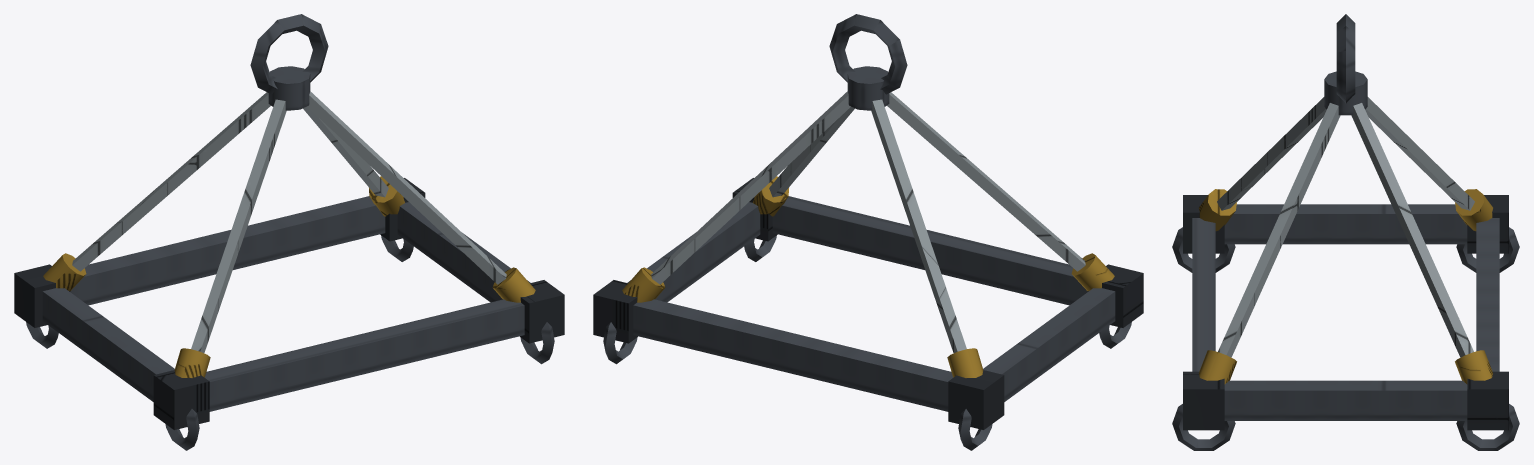
The model's file is cargo-four-point-sling-frame_lod2.glb.
3 views of the same model, side by side, from view 1: azimuth 30°, elevation 25°; view 2: azimuth 150°, elevation 25°; view 3: azimuth 270°, elevation 25° (orthographic).
Parts seen in each view (by area): view 1: LOD2_Mechanical, LOD2_BrushedMetal, LOD2_Armor, LOD2_Livery; view 2: LOD2_Mechanical, LOD2_BrushedMetal, LOD2_Armor, LOD2_Livery; view 3: LOD2_Mechanical, LOD2_BrushedMetal, LOD2_Armor, LOD2_Livery.
Part boxes in pixels (x1,y1,x2,y2): LOD2_Mechanical: (26, 14, 554, 450); LOD2_BrushedMetal: (72, 91, 506, 352); LOD2_Armor: (14, 178, 564, 429); LOD2_Livery: (43, 176, 535, 377); LOD2_Mechanical: (603, 14, 1131, 450); LOD2_BrushedMetal: (651, 91, 1085, 352); LOD2_Armor: (593, 178, 1143, 429); LOD2_Livery: (622, 176, 1114, 377); LOD2_Mechanical: (1172, 14, 1519, 450); LOD2_BrushedMetal: (1217, 97, 1474, 357); LOD2_Armor: (1183, 195, 1508, 430); LOD2_Livery: (1198, 189, 1493, 384).
Size of the model in its own units: 2.75 by 2.26 by 2.08.
4 materials, 4 textured.
